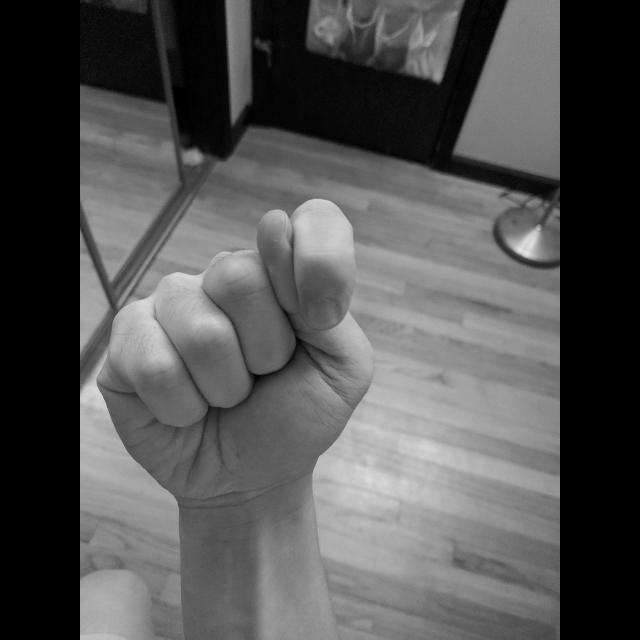T: (89, 192, 383, 510)
